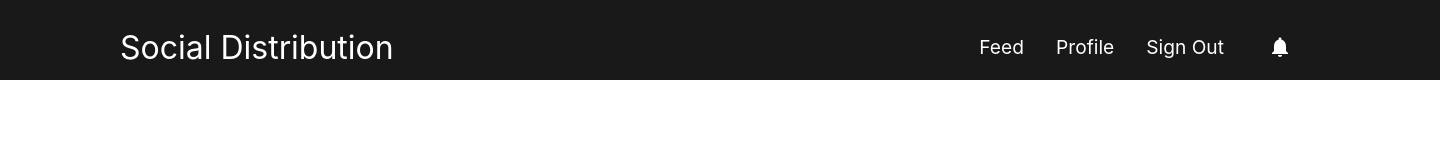
Test case: Navbar component › clicking on notifications opens the dropdown menu
Click the button named "account of current user": (1280, 47) [1256,23,1304,71]
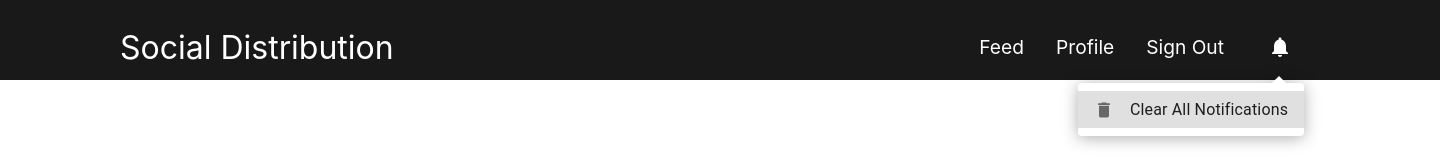
Expected: the menu is shown, [1078,83,1304,136]
